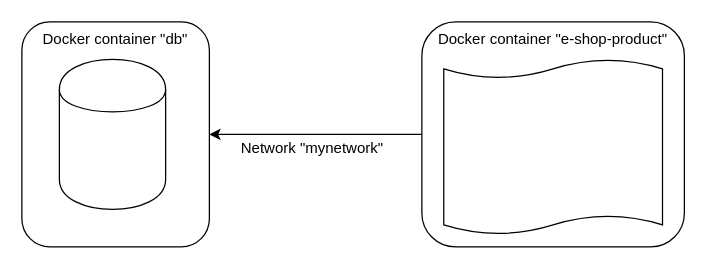
Image size: 706x269. Some labels were removed from this diagram. Here are the shapes that lost their labels. From the top down, the centre of each, then its label:
At pixel 112 133: "postgres port 5432".
At pixel 552 146: "ktor server: Products REST API (port 8080)".
